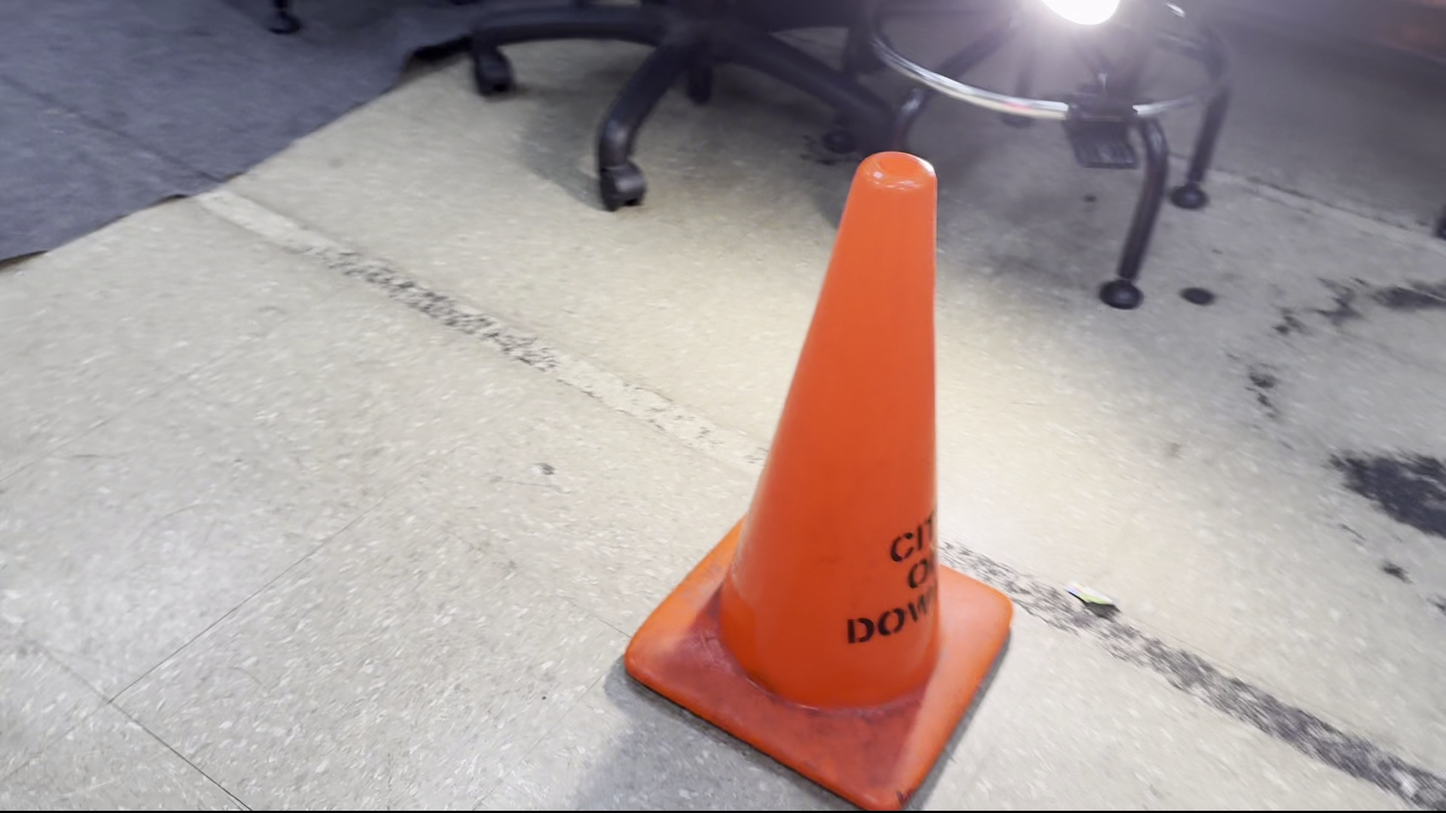traffic_cone: (623, 149, 1014, 811)
